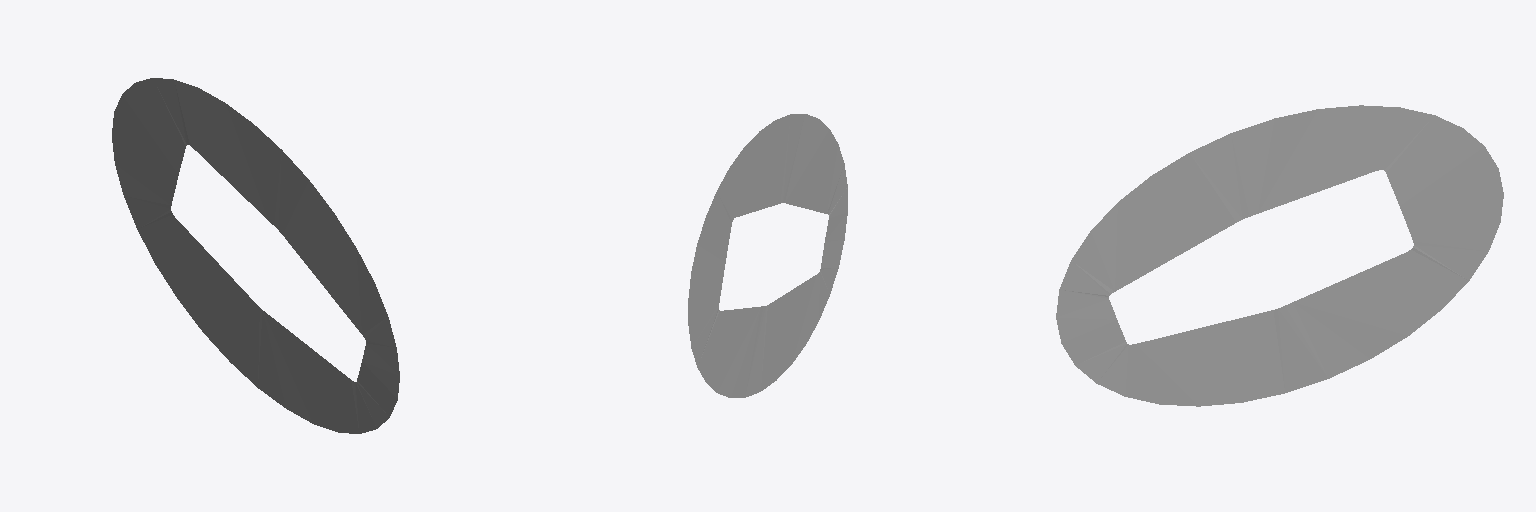
The model's file is mainswordhilt.obj.
3 renders of one model, left to right at view 1: azimuth 30°, elevation 25°; view 2: azimuth 150°, elevation 25°; view 3: azimuth 270°, elevation 25°, orthographic.
Parts seen in each view (by area): view 1: mainswordhilt; view 2: mainswordhilt; view 3: mainswordhilt.
Part boxes in pixels (bbox=[...]): mainswordhilt: bbox=[112, 78, 399, 433]; mainswordhilt: bbox=[688, 114, 847, 397]; mainswordhilt: bbox=[1056, 105, 1503, 406].
Bounding box in the file's own units: 0.9225 × 3.85 × 5.49.